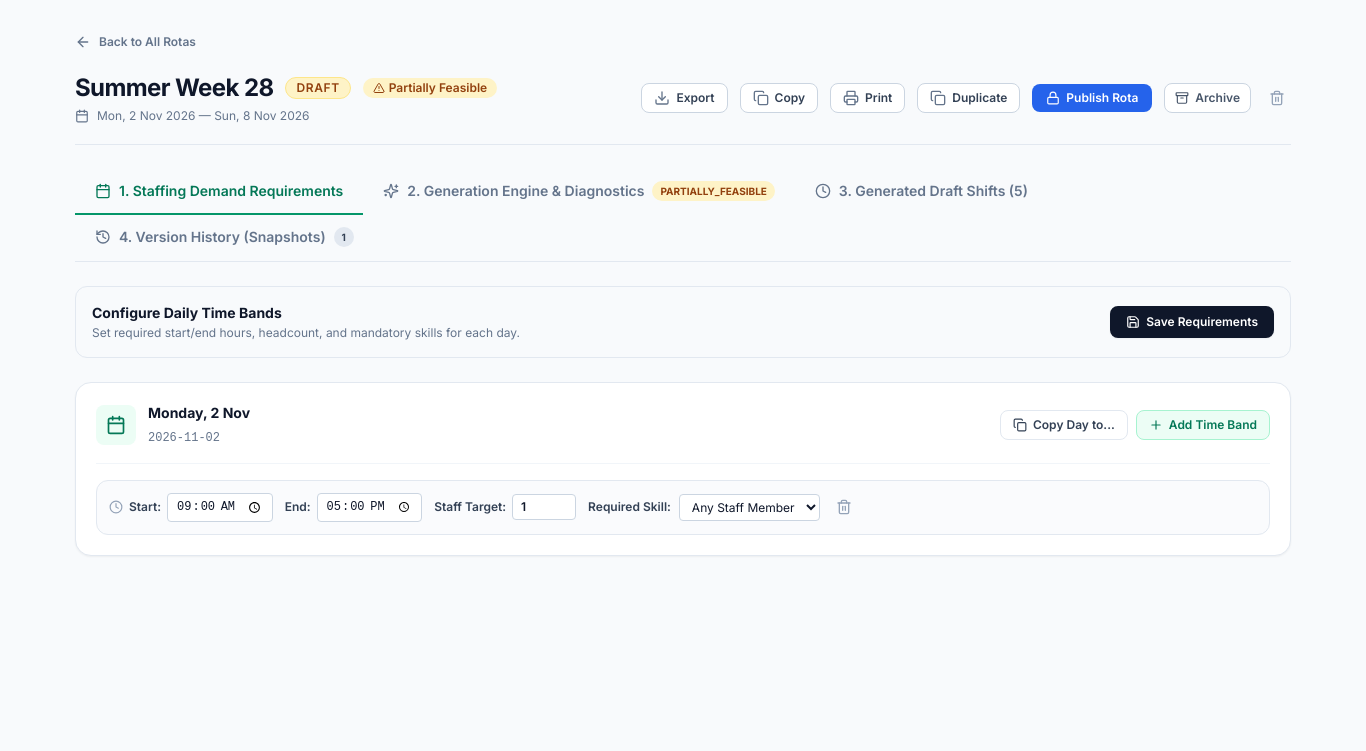
Scenario: Milestone 5 Frontend - Rota Snapshots, Diagnostics & Transparency › displays transparent paid-hour and unpaid break breakdown in the shifts tab
expect the heading "Summer Week 28" is shown: met, box top-left (75, 72), bottom-right (274, 104)
Click the button "3. Generated Draft Shifts (5)". click: click(921, 192)
box: top-left (795, 169), bottom-right (1048, 215)
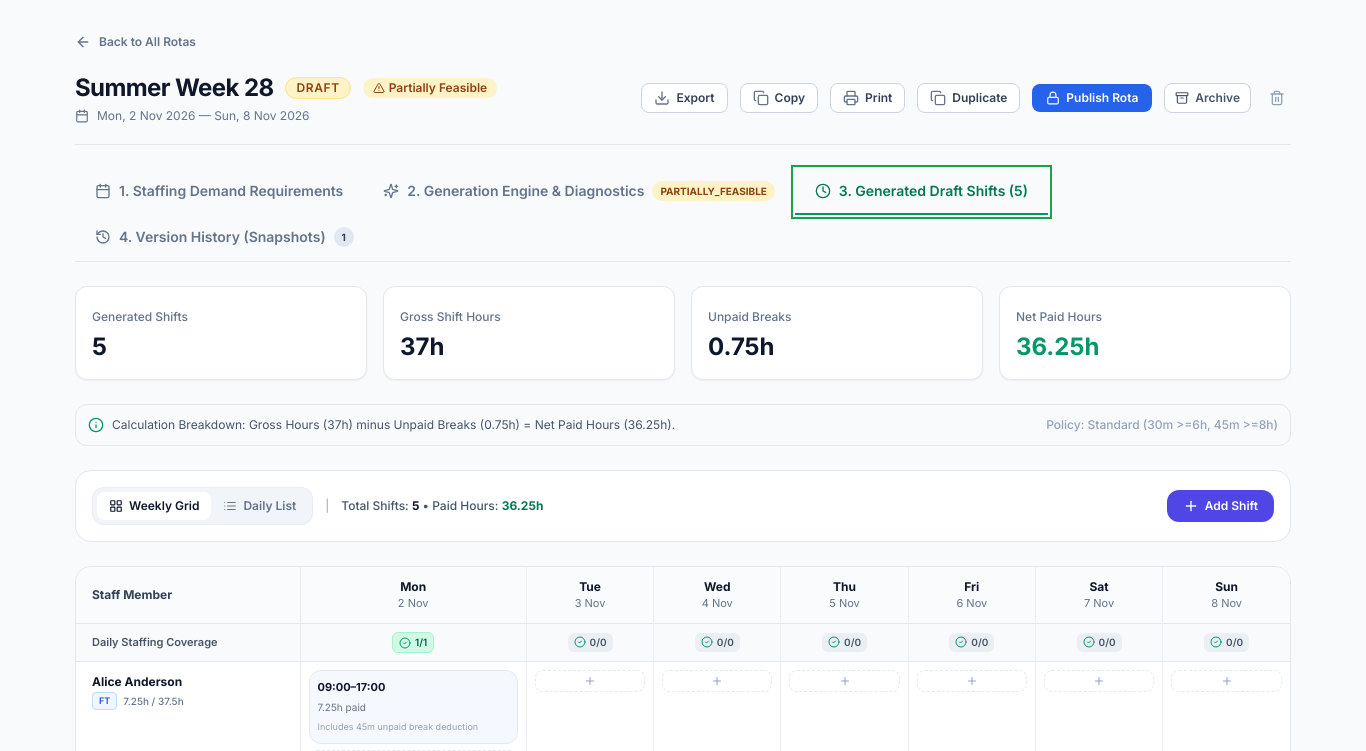
expect the text "Gross Shift Hours" is shown: met, box top-left (400, 309), bottom-right (501, 324)
expect the text "Includes 45m unpaid break deduction" is shown: met, box top-left (318, 721), bottom-right (478, 732)
